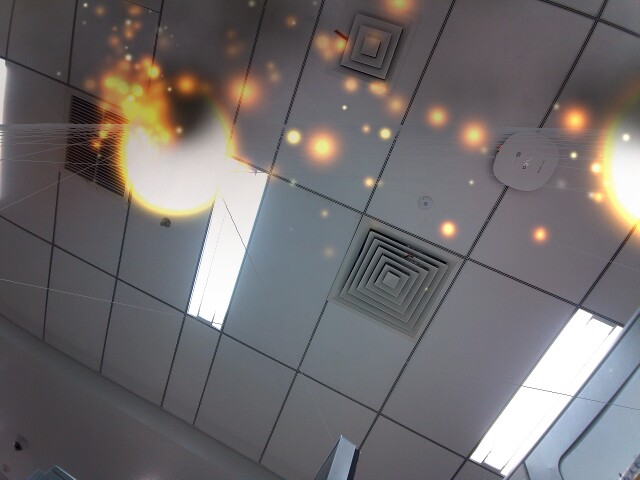fire: (122, 92, 234, 217), (601, 81, 640, 233)
